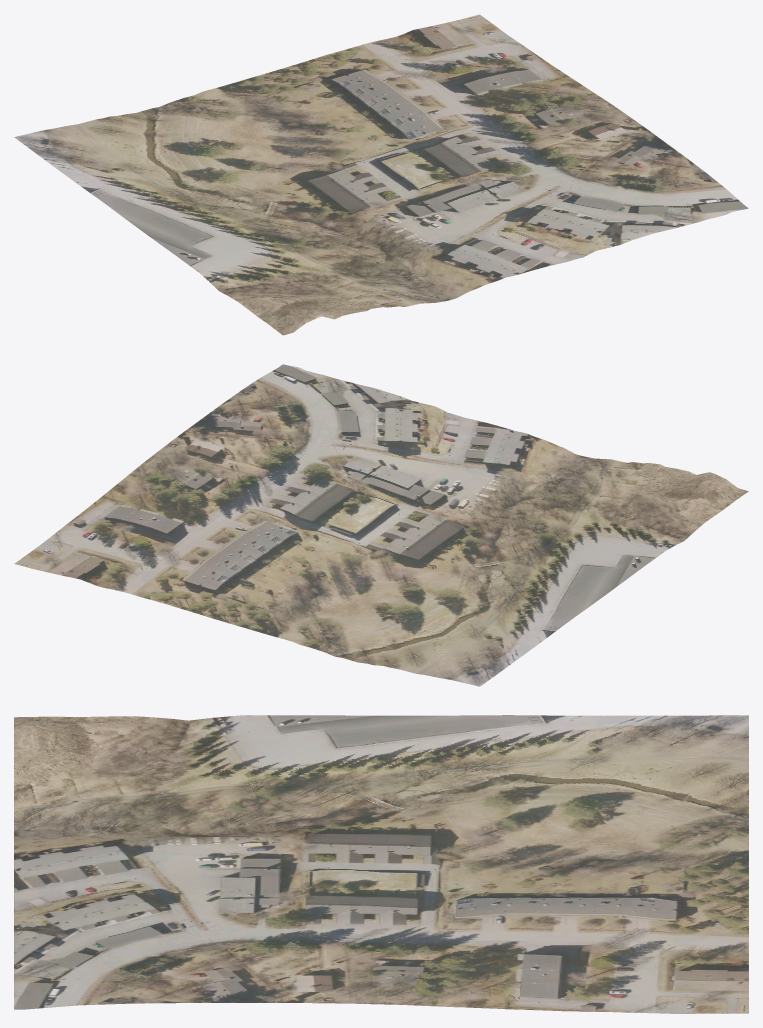
Rendered from CM_Terrain_24490663_6820204.fbx.
3 views of the same model, one above another, from view 1: azimuth 30°, elevation 25°; view 2: azimuth 150°, elevation 25°; view 3: azimuth 270°, elevation 25° (orthographic). The views are drawn at different scales.
Parts seen in each view (by area): view 1: CM_Terrain_24490663_6820204_LOD0; view 2: CM_Terrain_24490663_6820204_LOD0; view 3: CM_Terrain_24490663_6820204_LOD0.
Part boxes in pixels (x1,y1,x2,y2): CM_Terrain_24490663_6820204_LOD0: (14, 14, 748, 335); CM_Terrain_24490663_6820204_LOD0: (14, 364, 748, 686); CM_Terrain_24490663_6820204_LOD0: (14, 715, 748, 1013).
Size of what is drawn, in the model's own units: 205 by 9.94 by 205.
